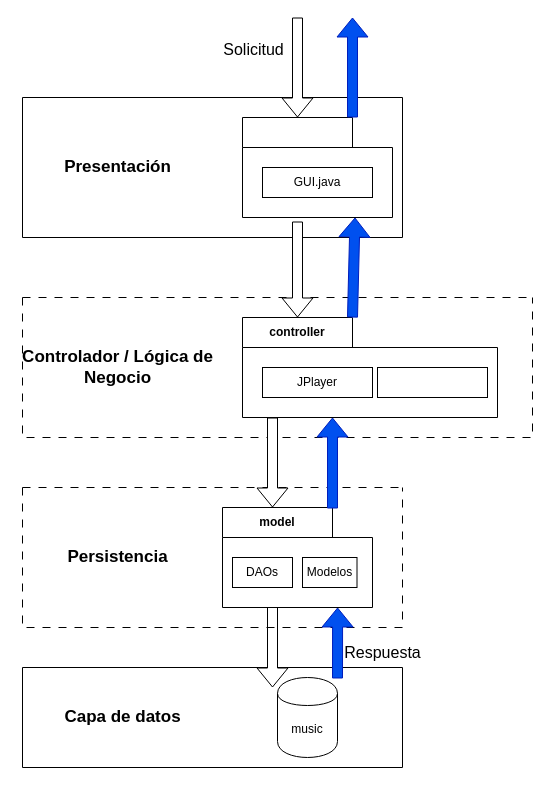
The diagram is 550 pixels wide and 785 high, and some of its shapes have lost their labels. The centre of each missing label's shape, as x and y in pixels:
"ui" goes at point (317, 167).
"VolumeAudioDevice" goes at point (432, 382).
